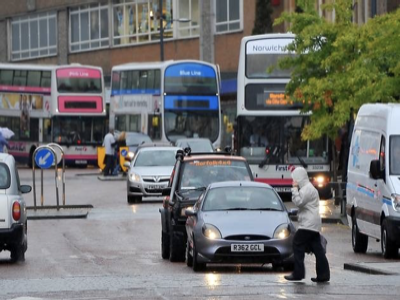licence: (228, 241, 266, 254)
